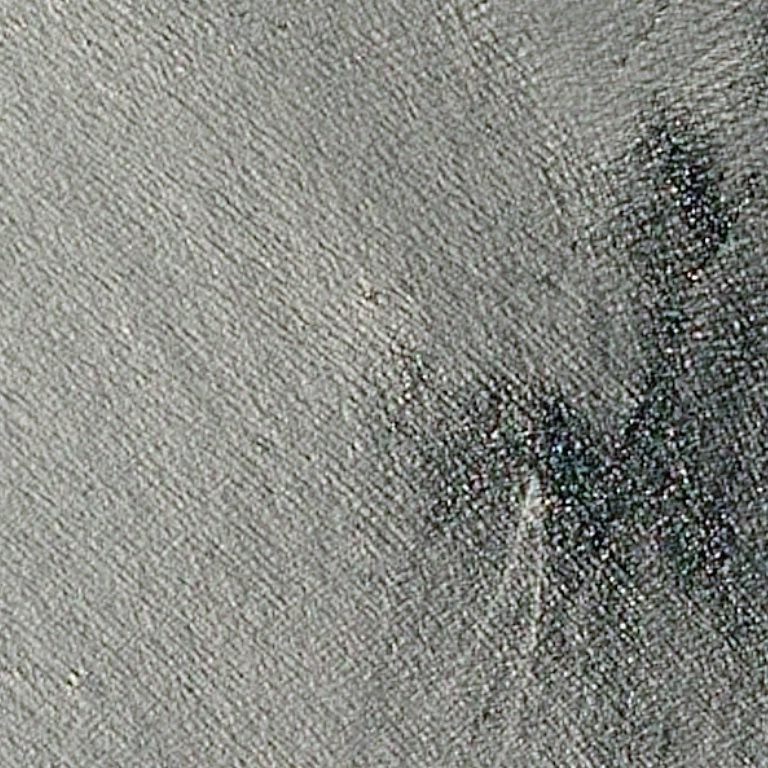ship: (531, 456, 535, 473), (530, 465, 534, 468), (536, 477, 538, 479), (529, 463, 530, 464)
